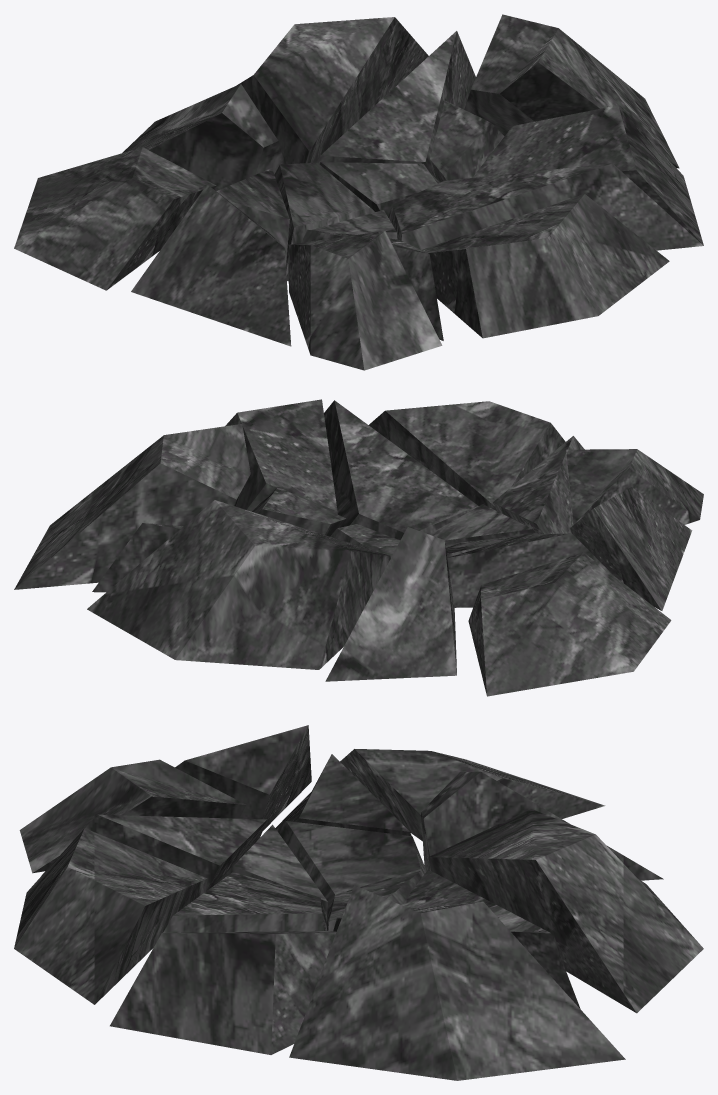
The picture shows the model from 3 angles, top to bottom: view 1: azimuth 30°, elevation 25°; view 2: azimuth 150°, elevation 25°; view 3: azimuth 270°, elevation 25°; orthographic projection. The views are drawn at different scales.
Parts seen in each view (by area): view 1: Plane15; view 2: Plane15; view 3: Plane15.
Boxes of the visible parts, x1,y1,x2,y2 form: Plane15: (14, 14, 703, 370); Plane15: (14, 399, 703, 696); Plane15: (14, 725, 703, 1080).
Bounding box in the file's own units: 4.74 × 4.3 × 0.7984.
Materials: 1 (1 with a texture image).
